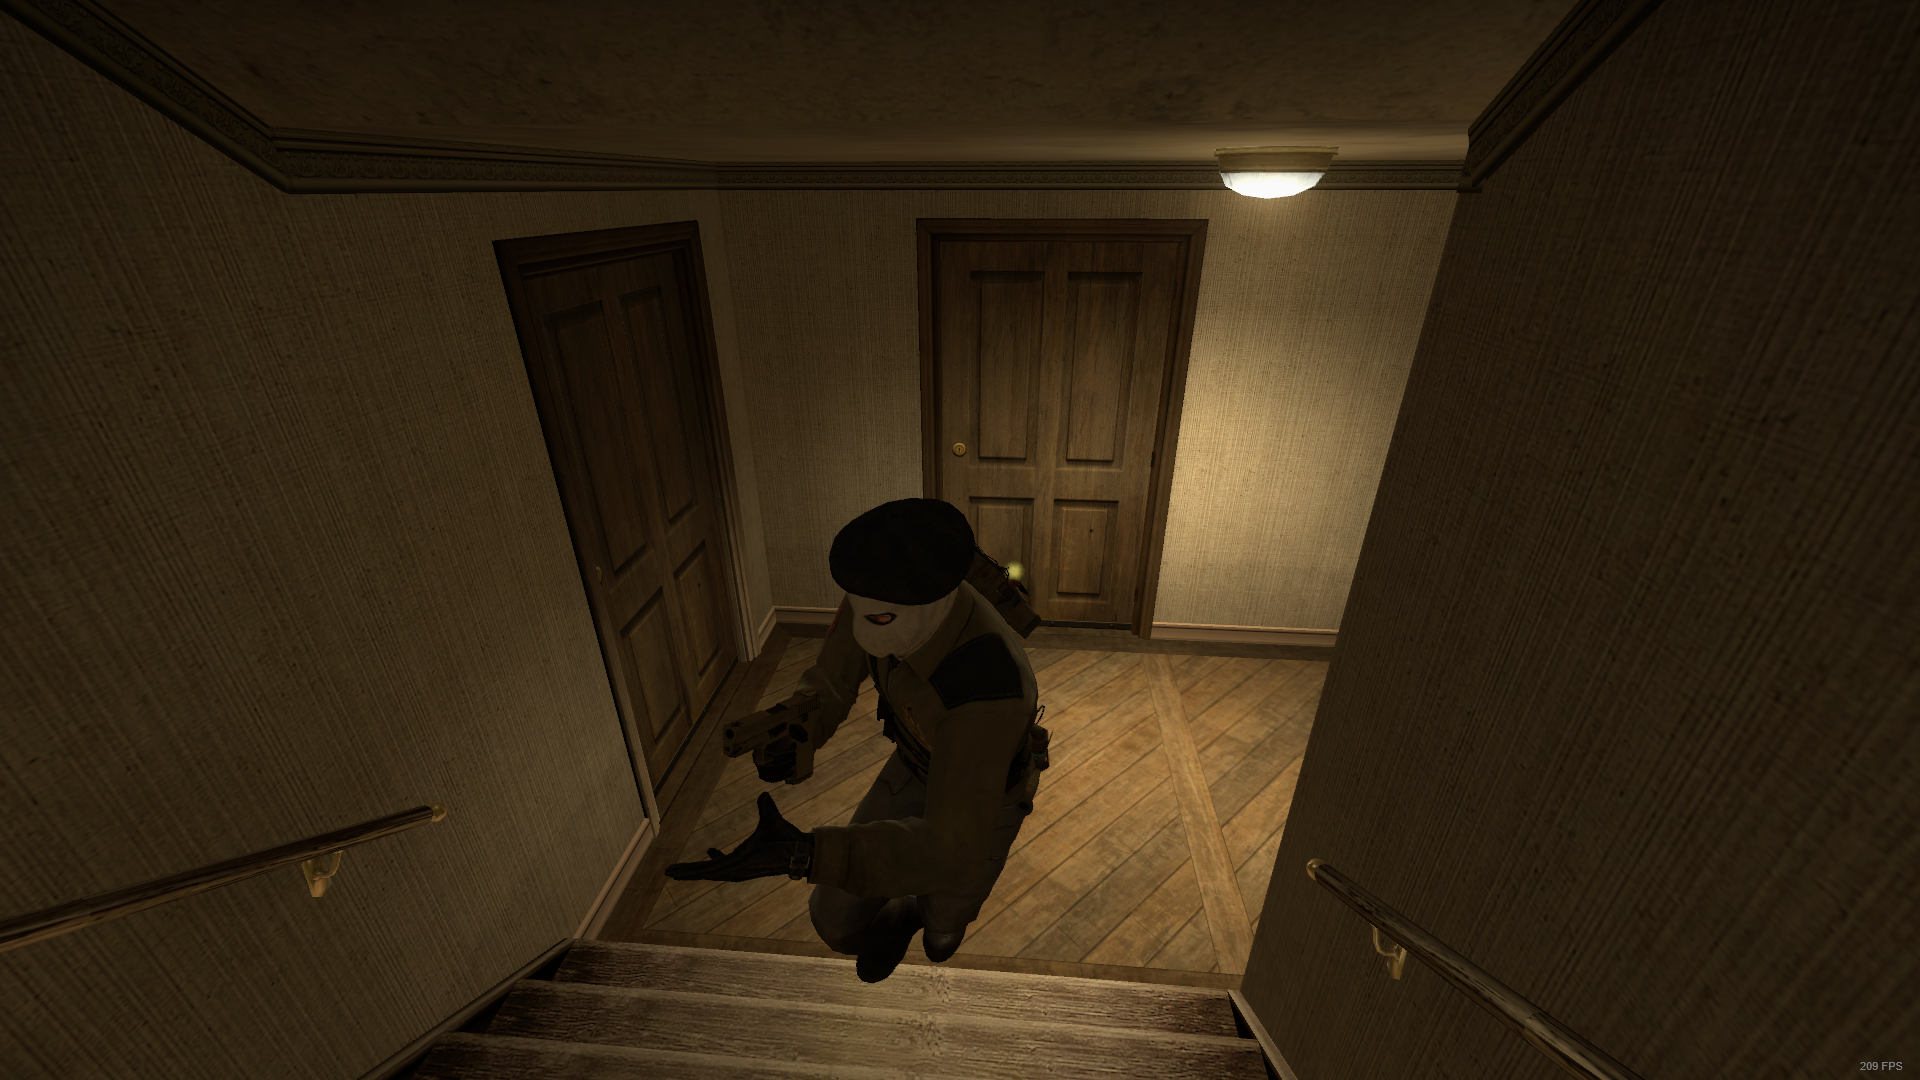t: (665, 497, 1040, 985)
